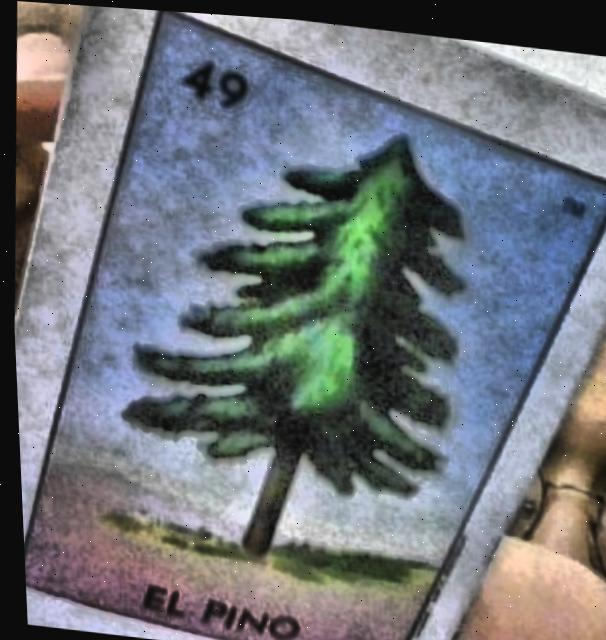El Pino: (19, 8, 606, 640)
